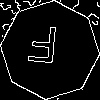F: (25, 25, 60, 73)
